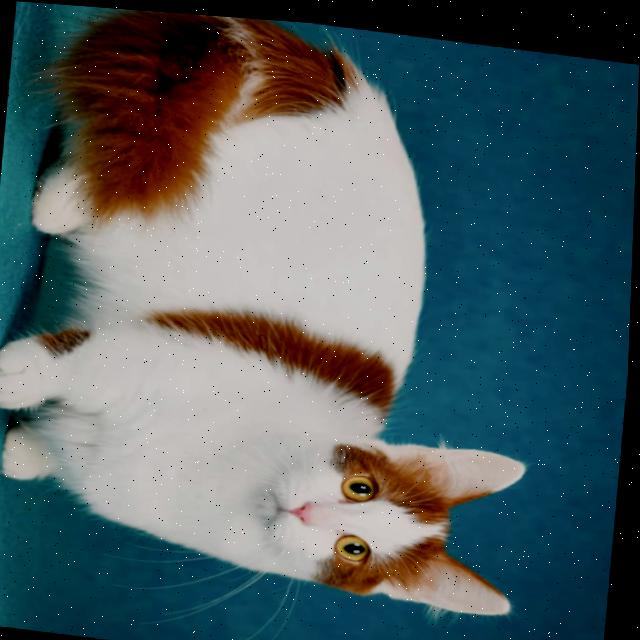Munchkin: (0, 0, 569, 615)
